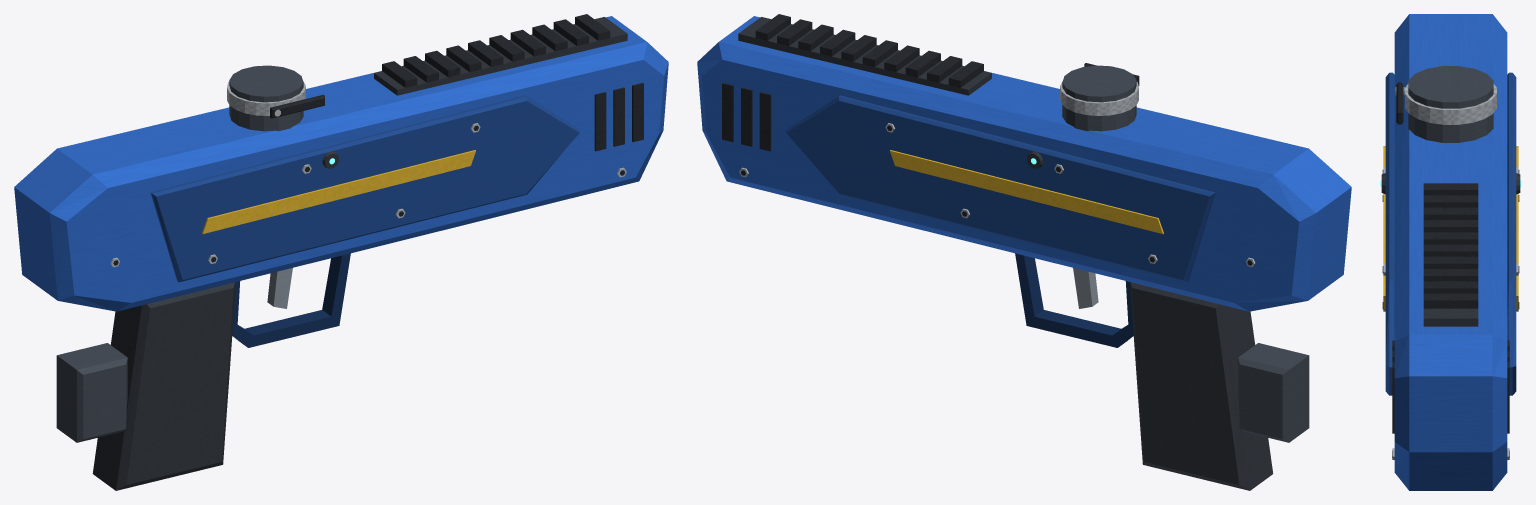
The model's file is titan_v2.glb.
The picture shows the model from 3 angles, left to right: view 1: azimuth 30°, elevation 25°; view 2: azimuth 150°, elevation 25°; view 3: azimuth 270°, elevation 25°; orthographic projection. The views are drawn at different scales.
Parts seen in each view (by area): view 1: body; view 2: body; view 3: body.
Part boxes in pixels (left/top/right/bottom): body: left=14, top=14, right=668, bottom=490; body: left=697, top=14, right=1351, bottom=490; body: left=1380, top=14, right=1521, bottom=490.
Size of the model in its own units: 0.462 by 0.258 by 0.0779.
12 materials, 11 textured.
